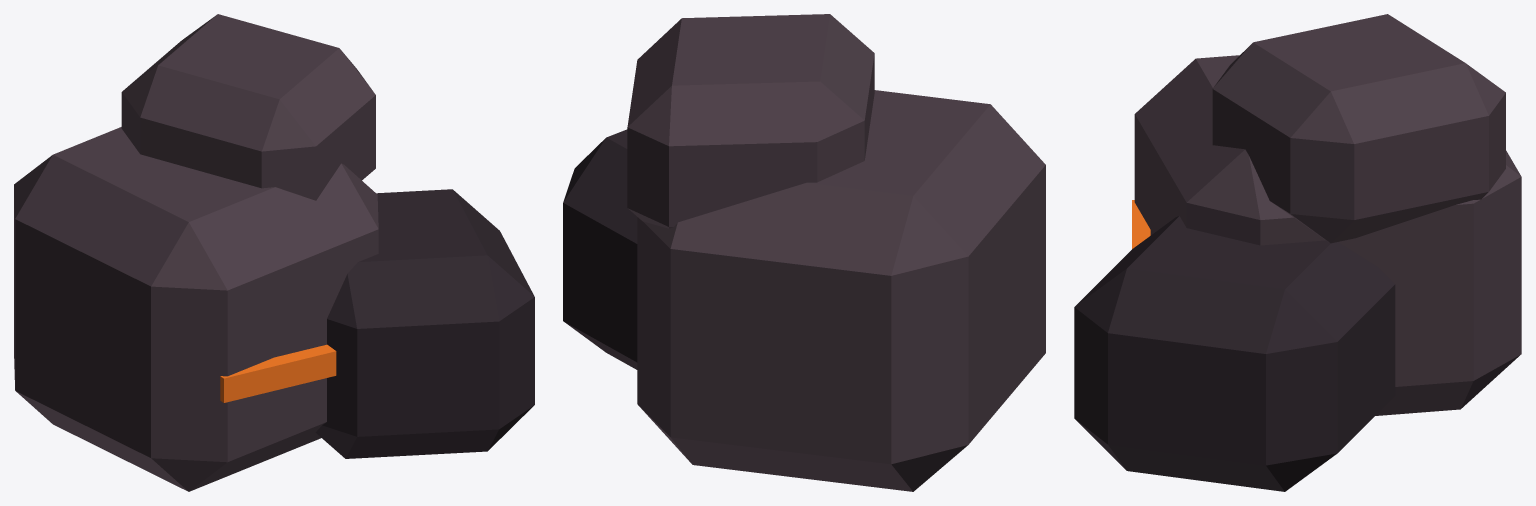
The model's file is env_r3_basalt_rock.glb.
3 renders of one model, left to right at view 1: azimuth 30°, elevation 25°; view 2: azimuth 150°, elevation 25°; view 3: azimuth 270°, elevation 25°, orthographic. The views are drawn at different scales.
Visible parts, largest first — view 1: env_r3_basalt_rock; view 2: env_r3_basalt_rock; view 3: env_r3_basalt_rock.
Boxes of the visible parts, <box> form: env_r3_basalt_rock: <box>14,14,534,491</box>; env_r3_basalt_rock: <box>563,14,1045,491</box>; env_r3_basalt_rock: <box>1074,14,1521,491</box>.
Size of the model in its own units: 1.8 by 1.4 by 1.6.
1 material, 1 textured.
